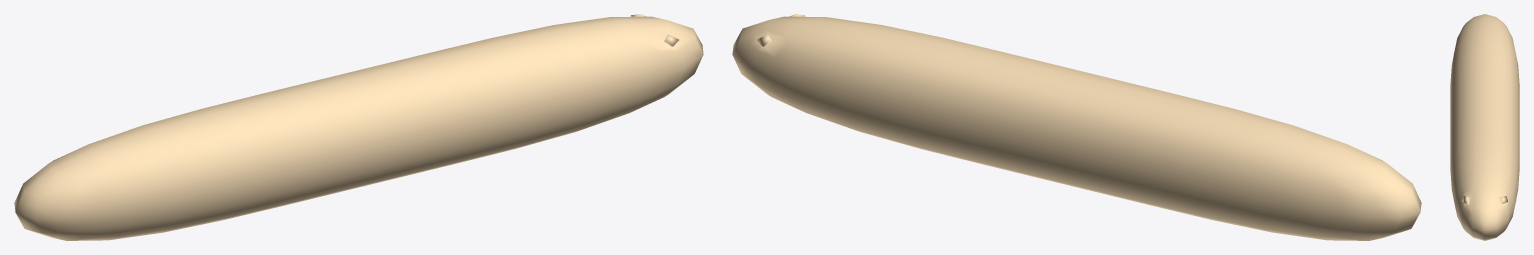
Rendered from wormanim.fbx.
3 renders of one model, left to right at view 1: azimuth 30°, elevation 25°; view 2: azimuth 150°, elevation 25°; view 3: azimuth 270°, elevation 25°, orthographic. The views are drawn at different scales.
Visible parts, largest first — view 1: Cube; view 2: Cube; view 3: Cube.
Boxes of the visible parts, x1,y1,x2,y2 form: Cube: (14,14,703,240); Cube: (732,14,1421,240); Cube: (1450,14,1519,240).
Bounding box in the file's own units: 55.2 × 7.87 × 7.83.
